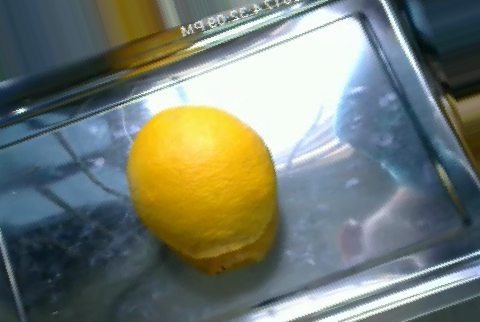Orange: (126, 104, 276, 258)
